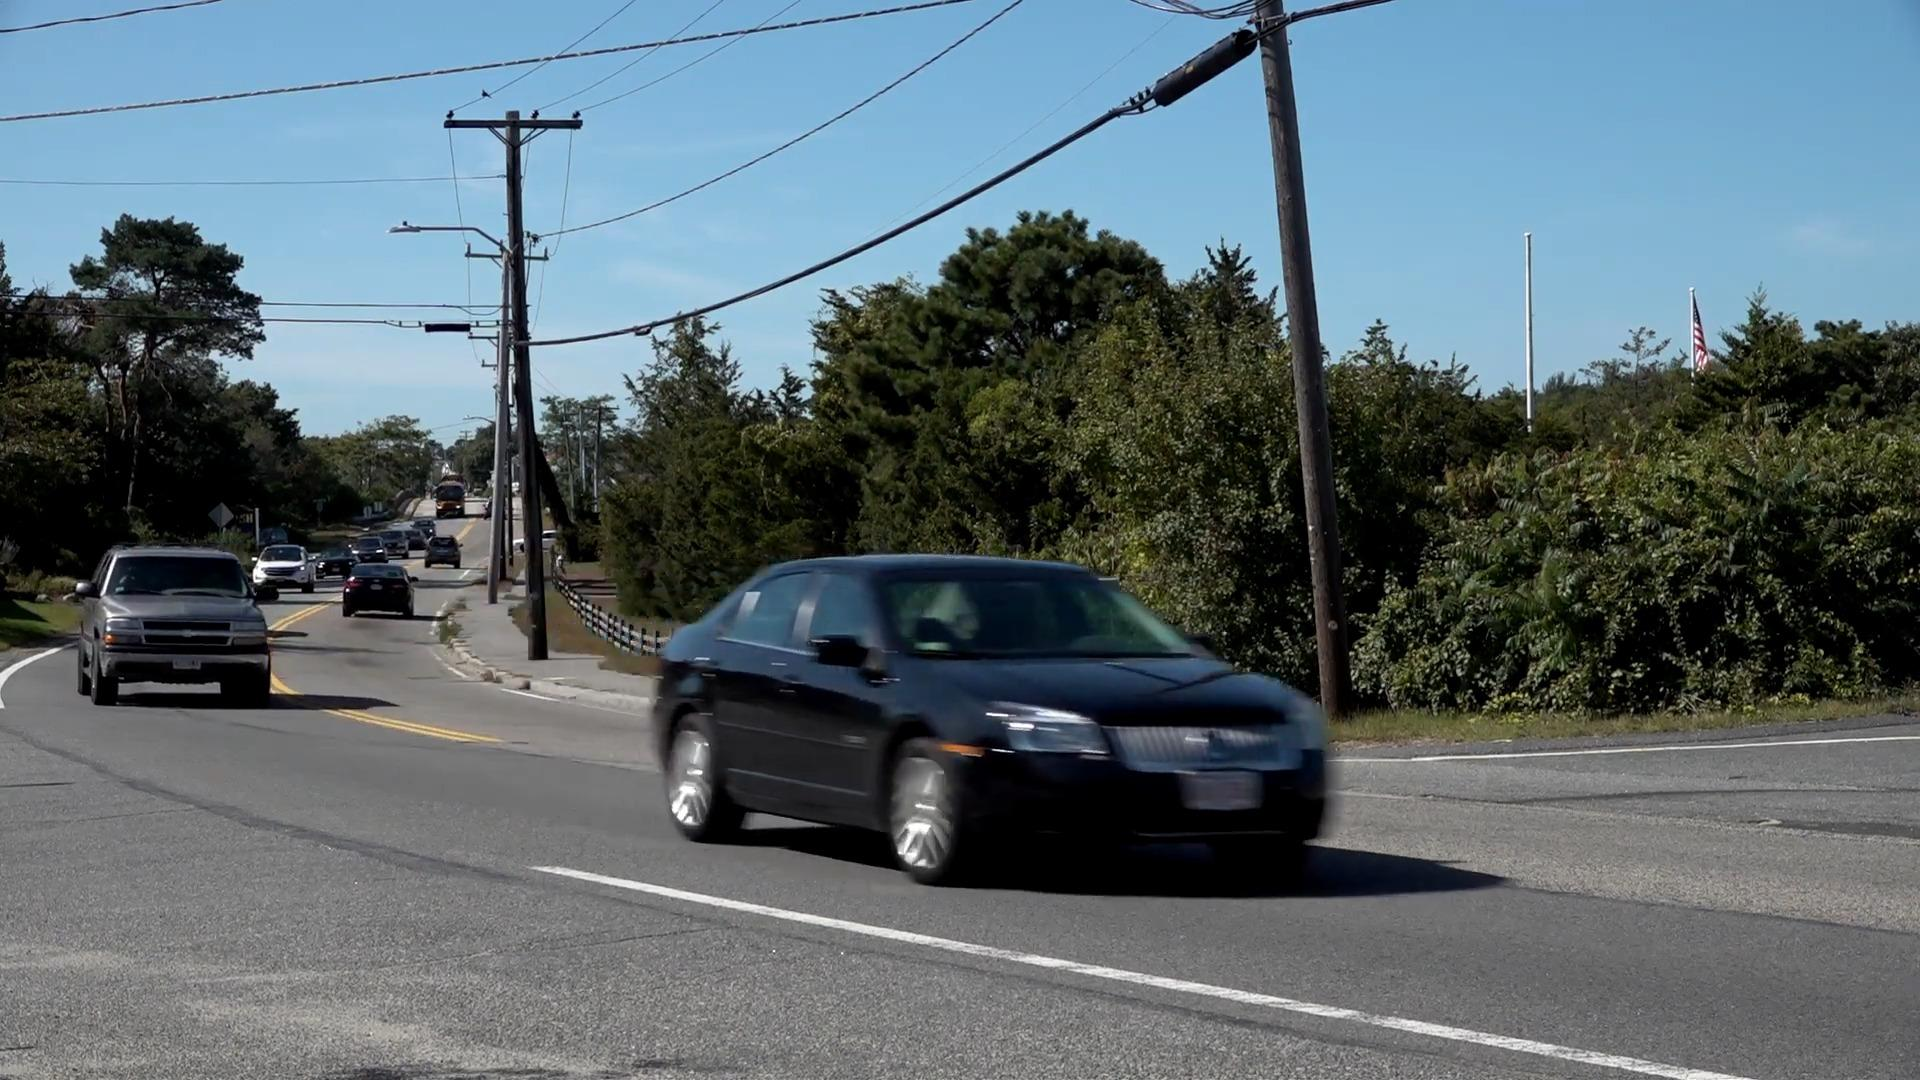sedans: (653, 558, 1333, 880)
suv: (76, 547, 274, 707)
